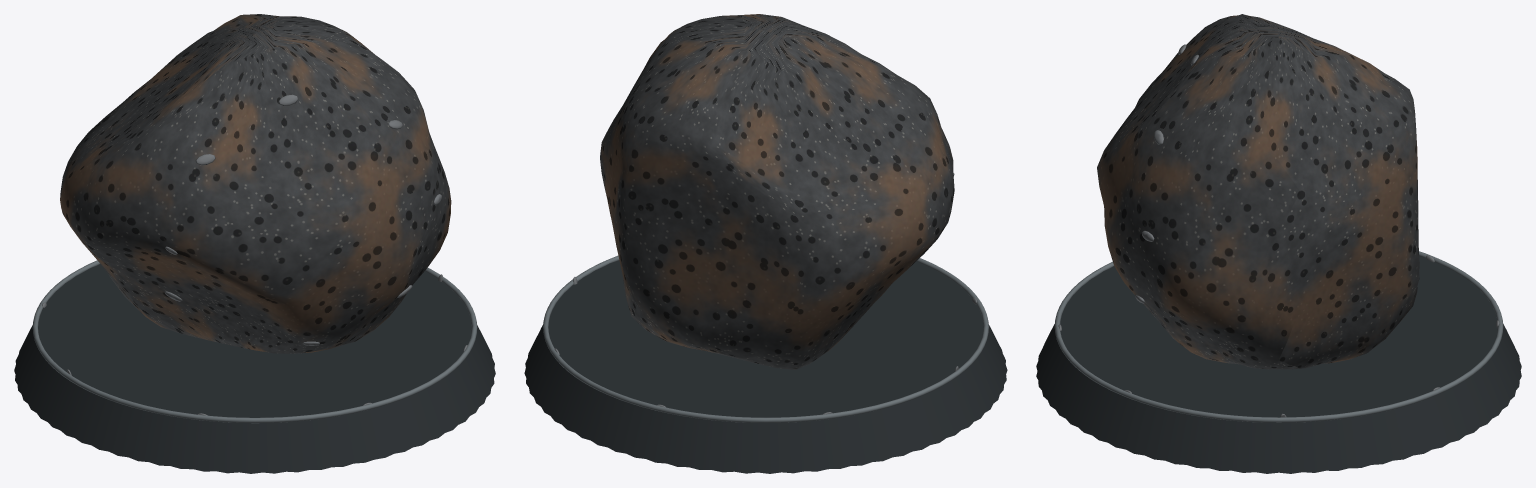
3 views of the same model, side by side, from view 1: azimuth 30°, elevation 25°; view 2: azimuth 150°, elevation 25°; view 3: azimuth 270°, elevation 25° (orthographic).
Visible parts, largest first — view 1: surface specimen, neutral specimen stand, specimen edge, turned rim; view 2: surface specimen, neutral specimen stand, specimen edge; view 3: surface specimen, neutral specimen stand, specimen edge.
Boxes of the visible parts, <box> form: surface specimen: <box>60,14,451,353</box>; neutral specimen stand: <box>14,264,495,473</box>; specimen edge: <box>32,260,477,423</box>; turned rim: <box>165,94,441,345</box>; surface specimen: <box>600,14,954,369</box>; neutral specimen stand: <box>524,260,1007,473</box>; specimen edge: <box>543,255,988,422</box>; surface specimen: <box>1097,14,1419,369</box>; neutral specimen stand: <box>1036,256,1521,473</box>; specimen edge: <box>1054,251,1503,422</box>.
Size of the model in its own units: 0.539 by 0.42 by 0.539.
Materials: 4 (1 with a texture image).
